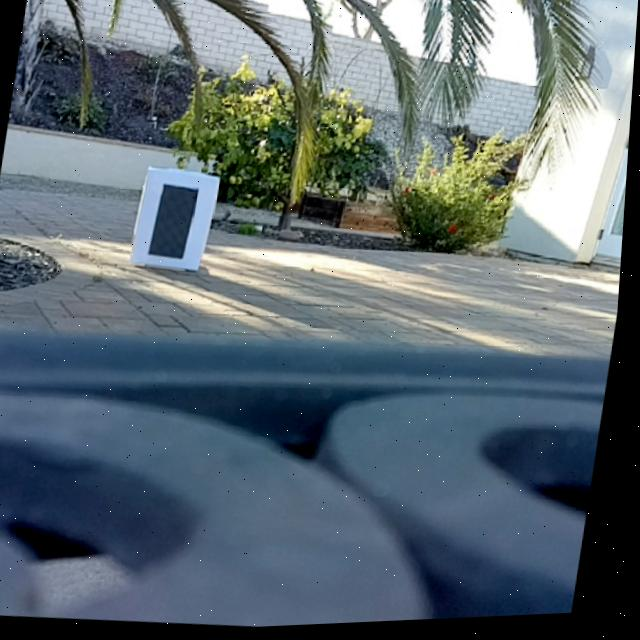led: (152, 182, 201, 262)
